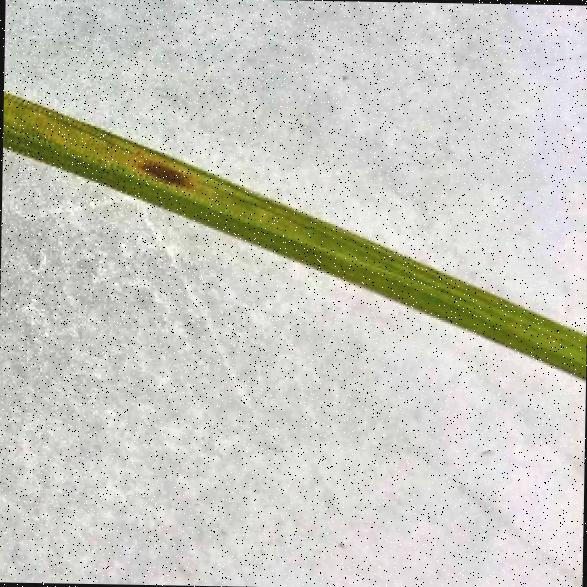Leaf_smut: (107, 140, 237, 218)
